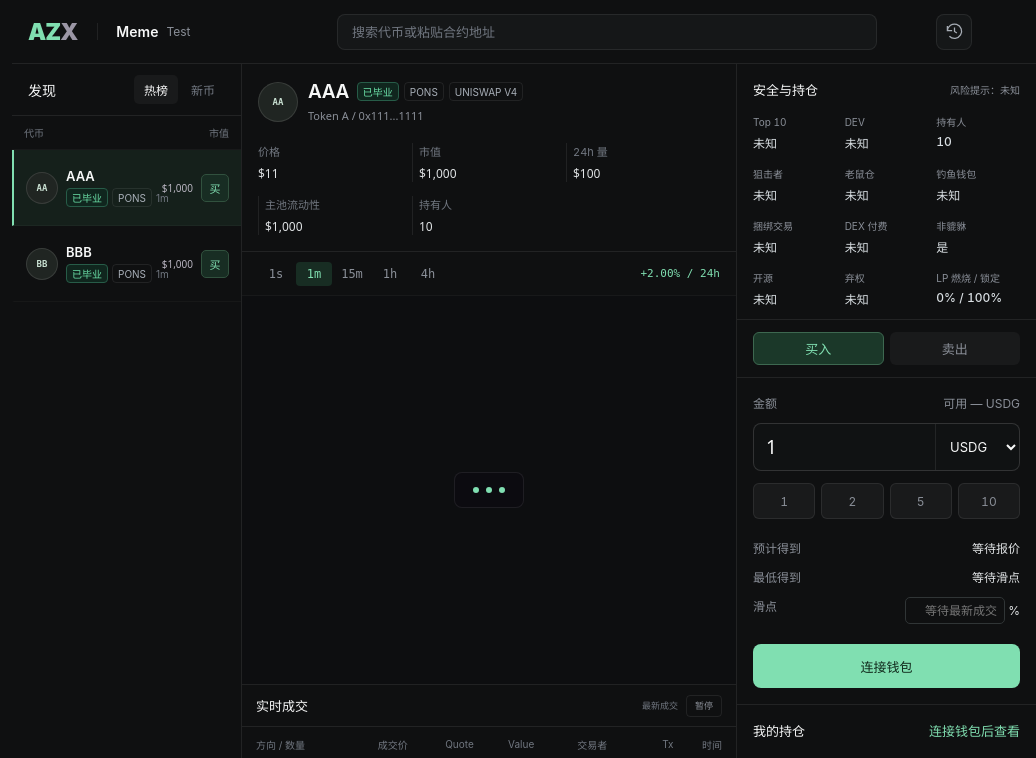
Test case: page loading continuity › switches tokens without restarting bootstrap and leaves detail failures local and retryable
Expected: the element named "AAA K 线图" is shown, [242,296,736,685]
What coordinates should you click on to do the following:
click the button with aria-label "查看 BBB"
I would click on:
 (108, 264)
Its box is [14,226,201,301].
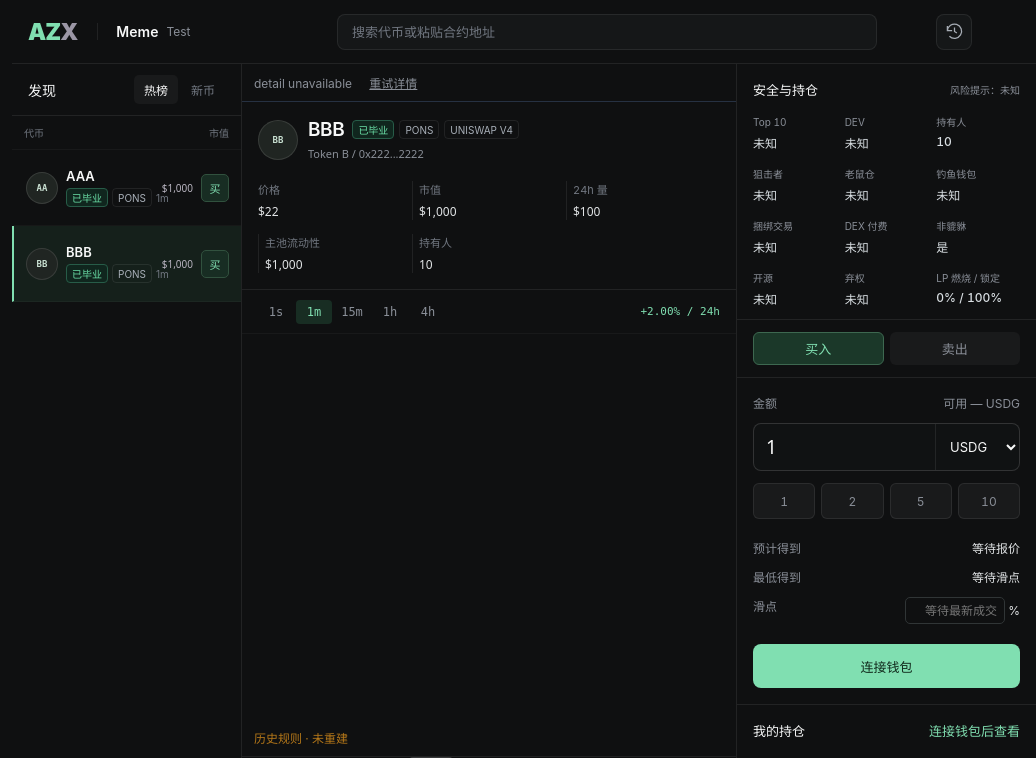
Expected: the text "detail unavailable 重试详情" is shown, [242,64,736,102]
